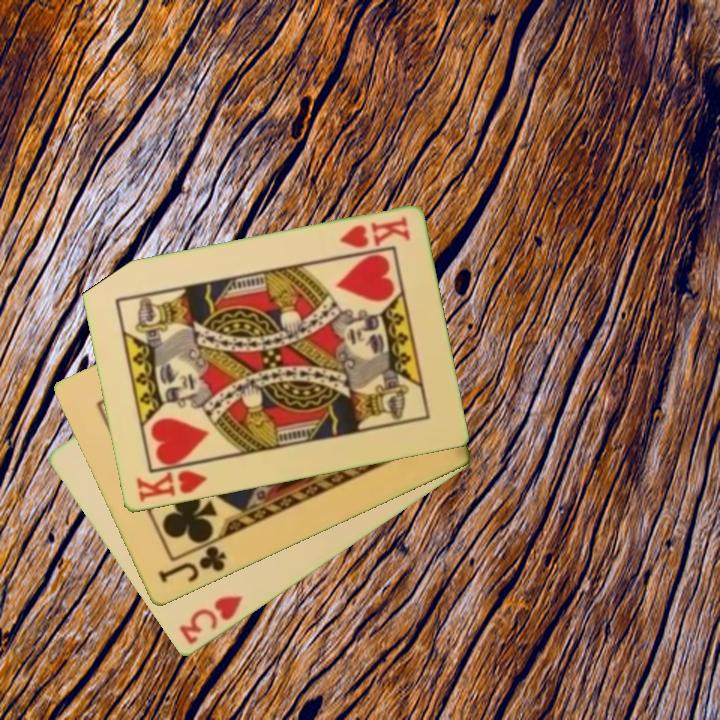3h: (175, 592, 246, 648)
Jc: (154, 542, 229, 587)
Kh: (132, 459, 211, 505), (335, 213, 413, 252)
